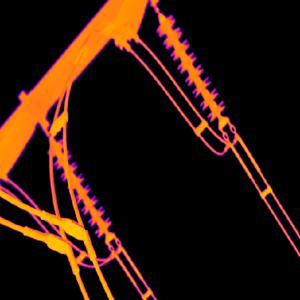insulator: (155, 9, 224, 121), (50, 136, 111, 236)
